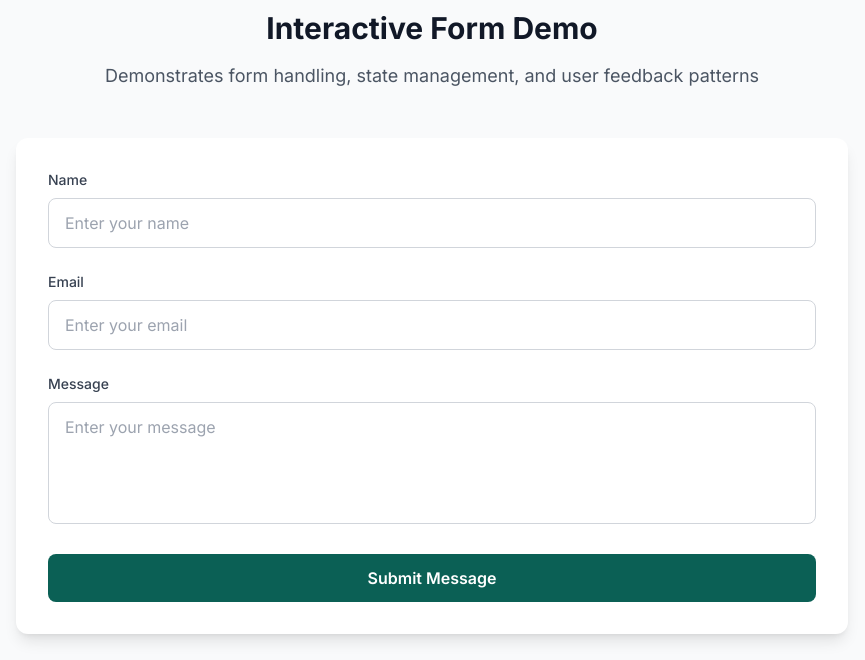
Test: InteractiveDemo › shows loading state when form is submitted
Note: Fill form
Type "John Doe" into the field labelled "Name" at {"x": 432, "y": 223}, box [48, 198, 816, 248]
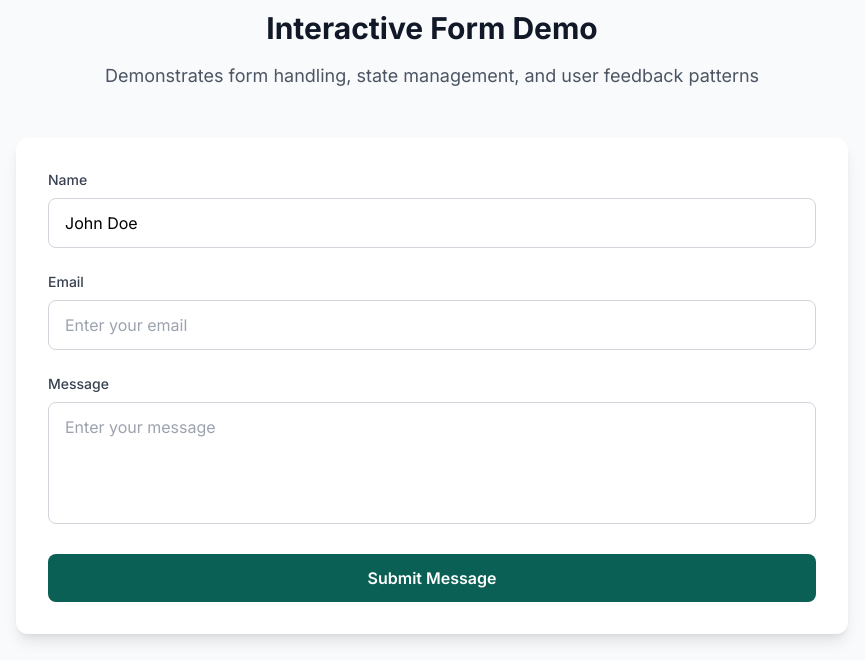
Type "john@example.com" into the field labelled "Email" at {"x": 432, "y": 325}, box [48, 300, 816, 350]
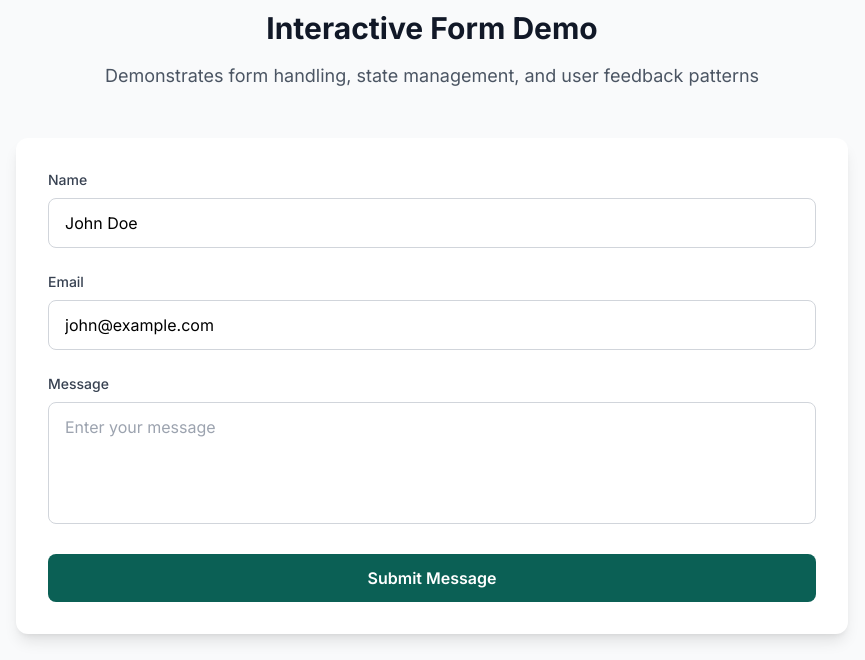
Type "Test message" into the text box labelled "Message" at {"x": 432, "y": 463}, box [48, 402, 816, 524]
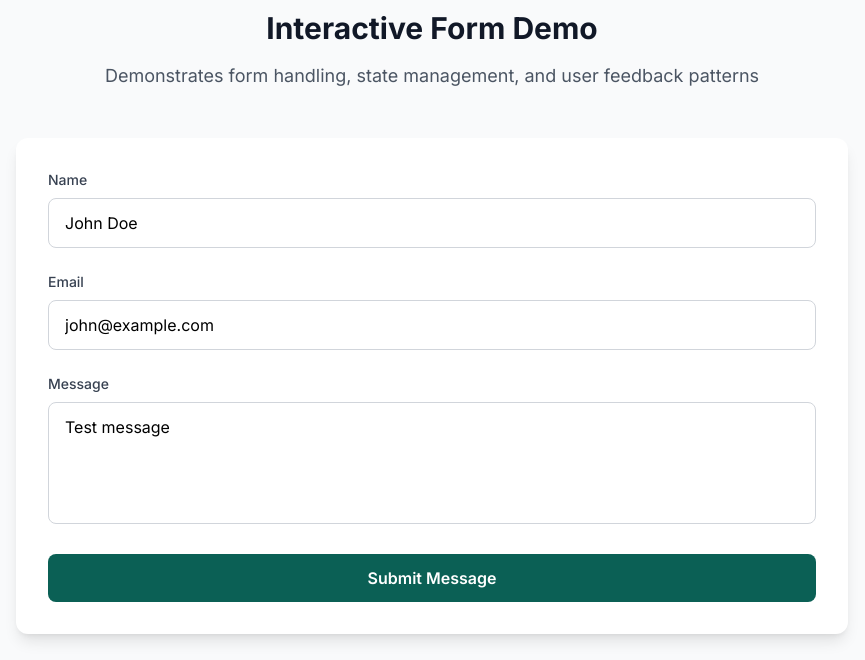
Note: Submit form
Click the button "Submit Message" at {"x": 432, "y": 578}, box [48, 554, 816, 602]
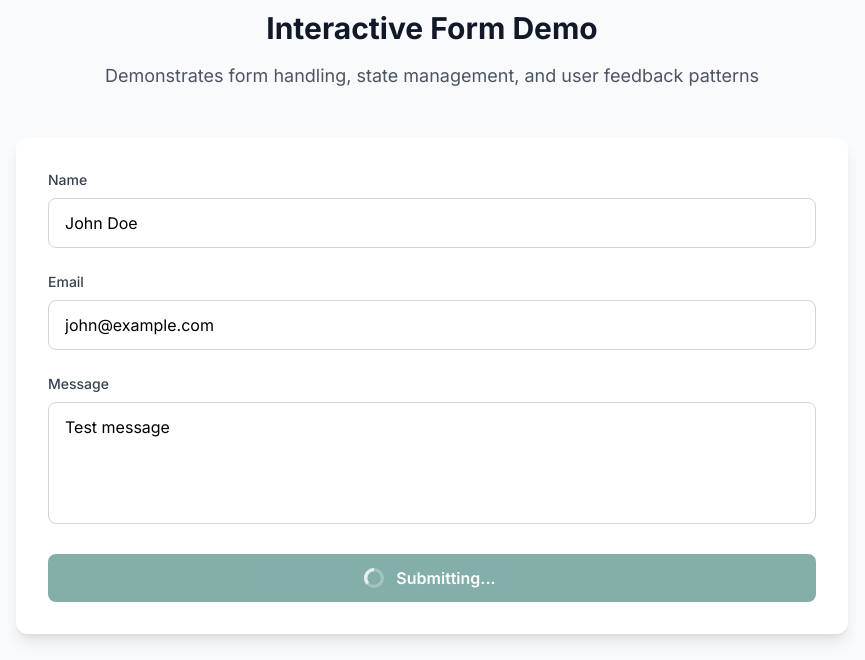
Result: the text "Submitting..." is shown at [364, 568, 496, 588]
Result: the button named "Submit Message" is disabled at [48, 554, 816, 602]
